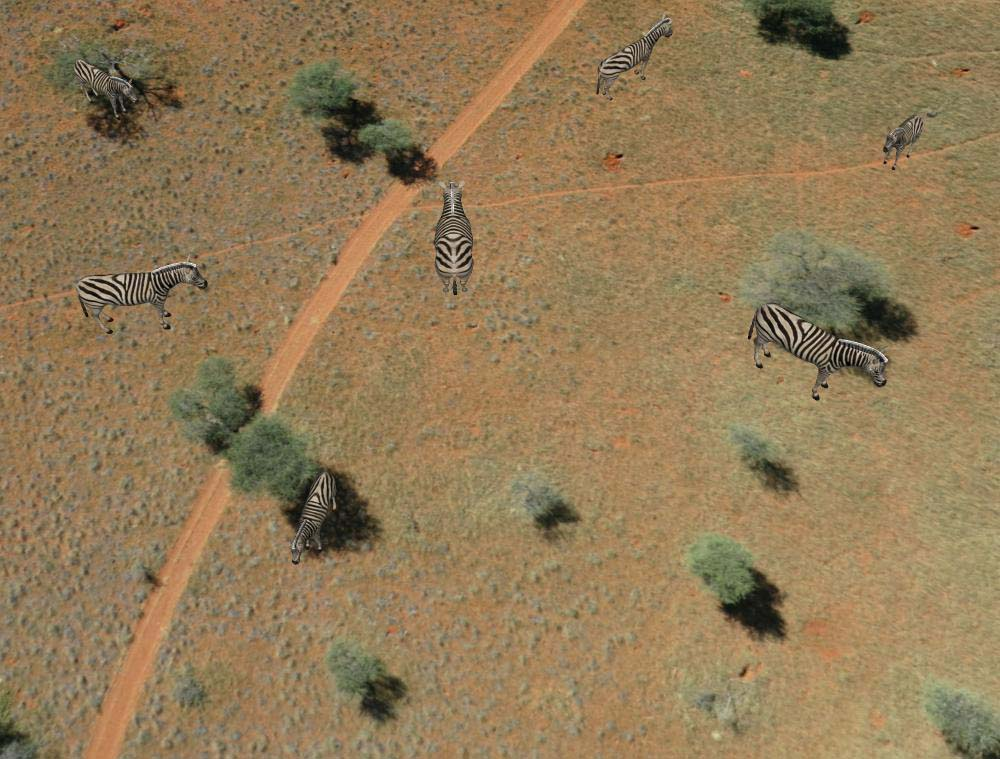zebra: (744, 302, 891, 405), (74, 265, 217, 335), (594, 16, 672, 104), (428, 175, 479, 299), (71, 48, 147, 129), (290, 461, 340, 569), (880, 105, 929, 175)
